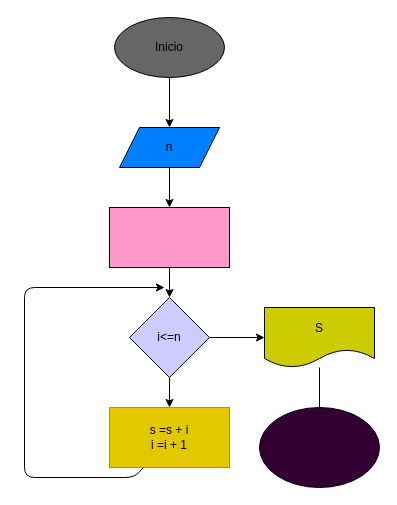
This 397x505 diagram has some shape labels left out. The shapes that lost their labels are listed below. From the top down, each one's centre as x and y in pixels, then its label:
At [169,237]: "s=0 i=1".
At [319,447]: "Fin".
